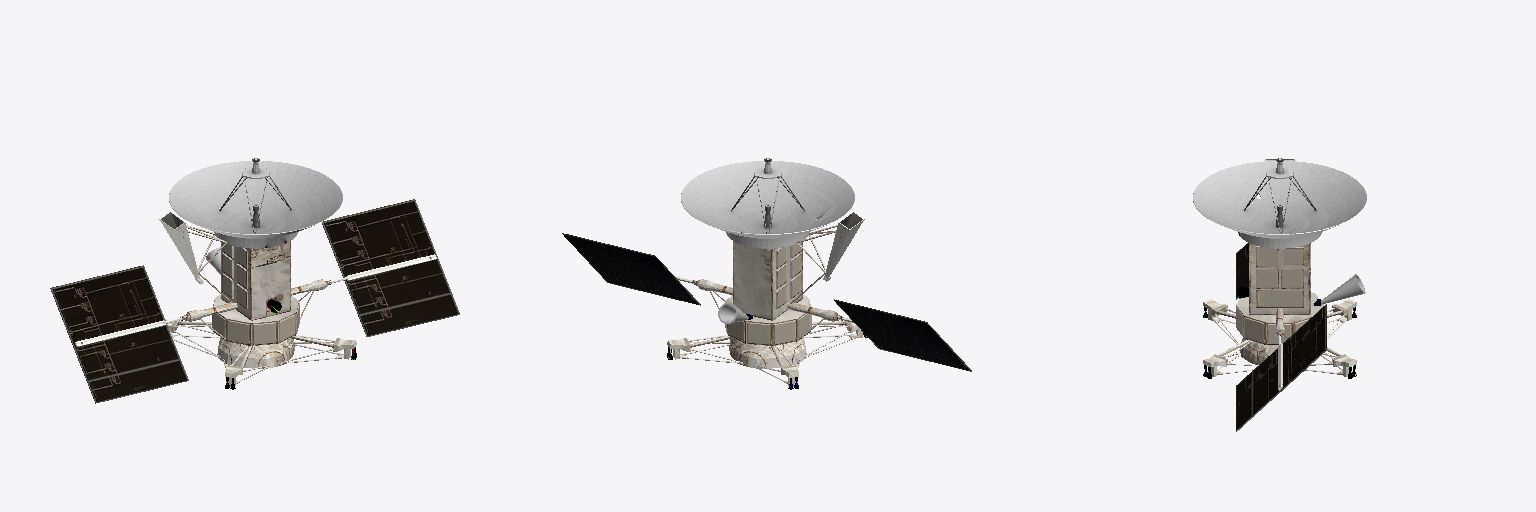
3 renders of one model, left to right at view 1: azimuth 30°, elevation 25°; view 2: azimuth 150°, elevation 25°; view 3: azimuth 270°, elevation 25°, orthographic.
Visible parts, largest first — view 1: obj5, obj4; view 2: obj5, obj4, obj6; view 3: obj5, obj4, obj1.
Part boxes in pixels (x1,y1,x2,y2): obj5: (50, 199, 459, 403); obj4: (169, 158, 342, 250); obj5: (562, 212, 971, 386); obj4: (681, 158, 854, 250); obj6: (563, 234, 971, 371); obj5: (1203, 159, 1356, 431); obj4: (1193, 158, 1366, 250); obj1: (1321, 274, 1365, 304).
Bounding box in the file's own units: 8.9 × 4.53 × 3.7.
206 materials, 2 textured.